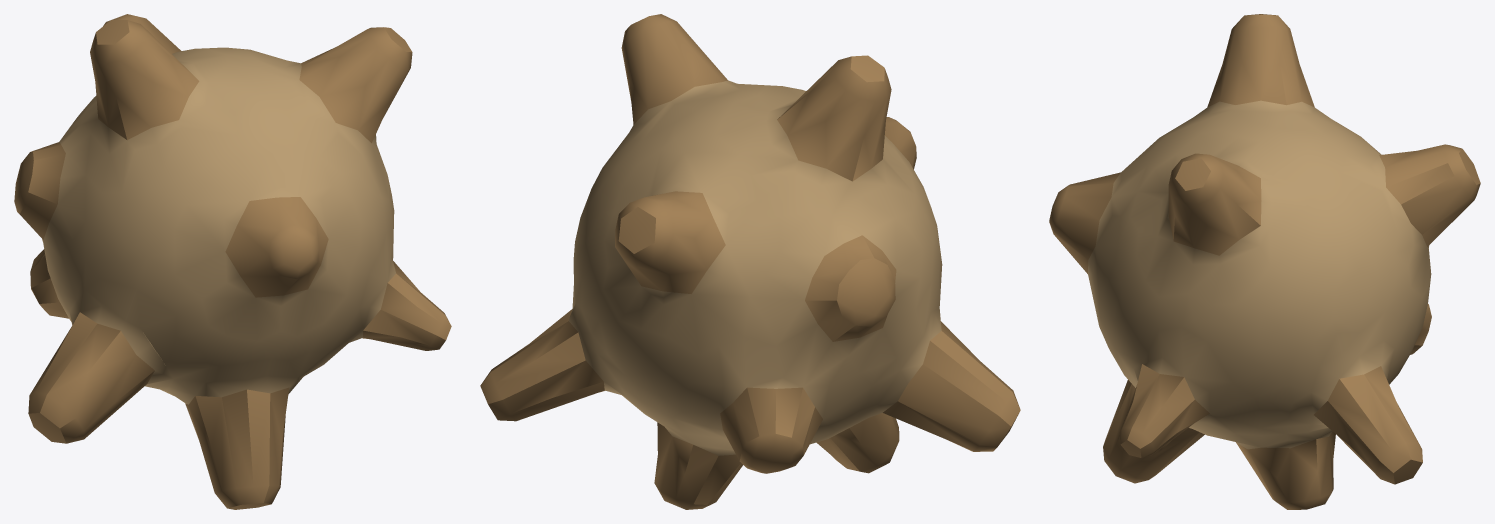
File: quaternius-ultimate-space-planet-5-transformed.glb
The picture shows the model from 3 angles, left to right: view 1: azimuth 30°, elevation 25°; view 2: azimuth 150°, elevation 25°; view 3: azimuth 270°, elevation 25°; orthographic projection. The views are drawn at different scales.
Parts seen in each view (by area): view 1: Planet_5; view 2: Planet_5; view 3: Planet_5.
Part boxes in pixels (bbox=[...]): Planet_5: bbox=[14, 14, 451, 509]; Planet_5: bbox=[480, 14, 1020, 509]; Planet_5: bbox=[1049, 14, 1480, 509].
Size of the model in its own units: 4.23 by 4.52 by 4.03.
Materials: 1 (1 with a texture image).
